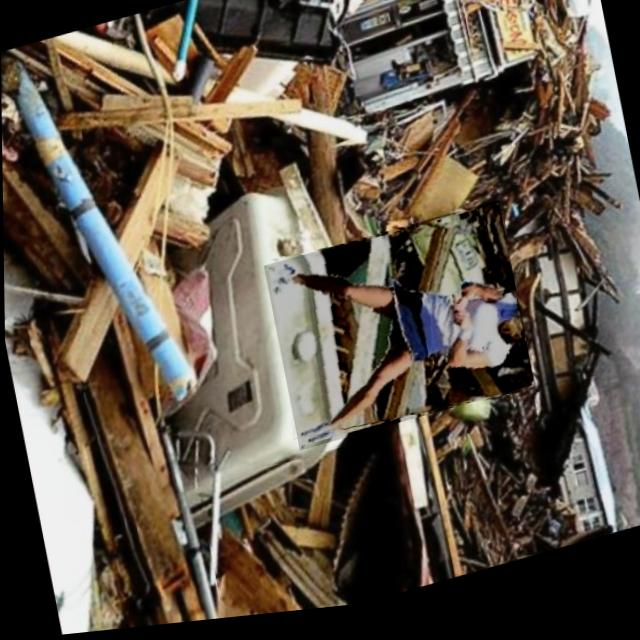Person in Rubble: (259, 208, 532, 460)
